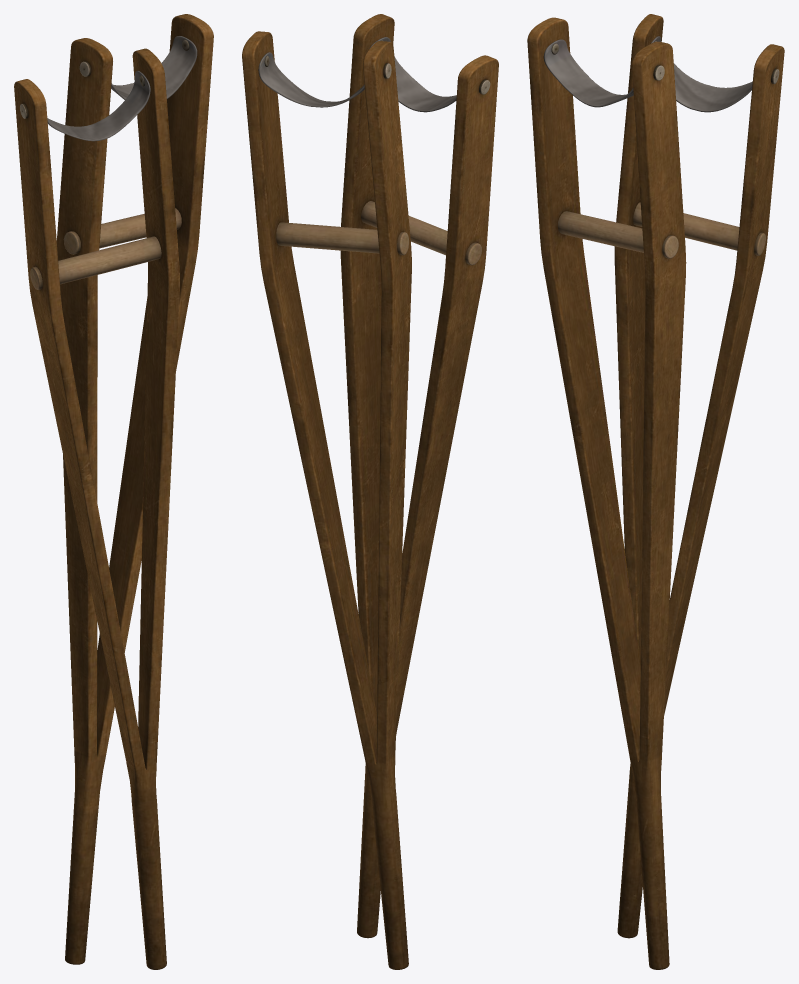
Rendered from vintage_crutches.glb.
The picture shows the model from 3 angles, left to right: view 1: azimuth 30°, elevation 25°; view 2: azimuth 150°, elevation 25°; view 3: azimuth 330°, elevation 25°; orthographic projection.
Parts seen in each view (by area): view 1: vintage_crutches_01_crutch01, vintage_crutches_01_crutch02; view 2: vintage_crutches_01_crutch02, vintage_crutches_01_crutch01; view 3: vintage_crutches_01_crutch01, vintage_crutches_01_crutch02.
Part boxes in pixels (x1,y1,x2,y2): vintage_crutches_01_crutch01: (14, 48, 179, 969); vintage_crutches_01_crutch02: (56, 14, 213, 964); vintage_crutches_01_crutch02: (242, 31, 411, 969); vintage_crutches_01_crutch01: (340, 14, 498, 938); vintage_crutches_01_crutch01: (527, 17, 686, 969); vintage_crutches_01_crutch02: (614, 14, 784, 938).
Size of the model in its own units: 0.3838 by 1.6 by 0.2036.
Materials: 1 (1 with a texture image).
